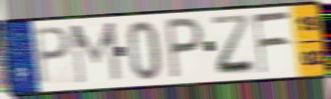0: (126, 19, 163, 83)
F: (251, 10, 292, 77)
M: (69, 20, 123, 87)
P: (164, 15, 206, 80), (32, 26, 74, 88)
Z: (209, 13, 259, 77)
